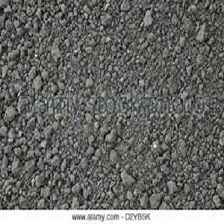loamy_soil: (14, 19, 212, 187)
